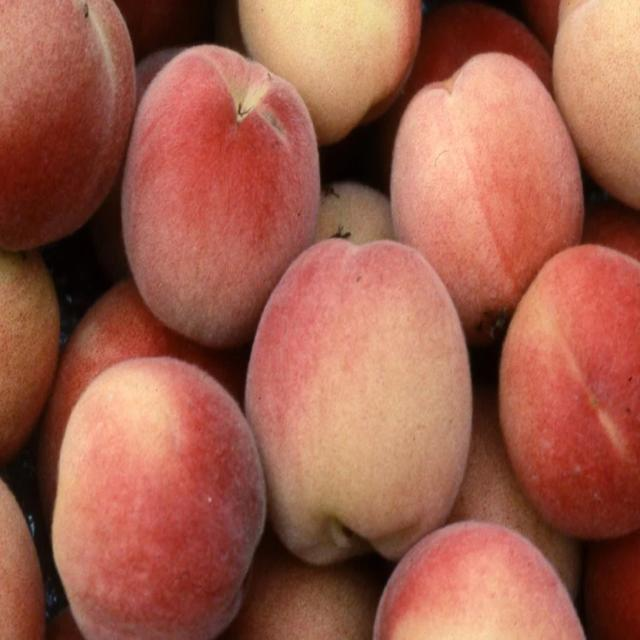peach: (243, 239, 475, 568), (119, 46, 321, 353), (49, 357, 268, 640), (389, 52, 586, 351), (498, 244, 640, 543)
